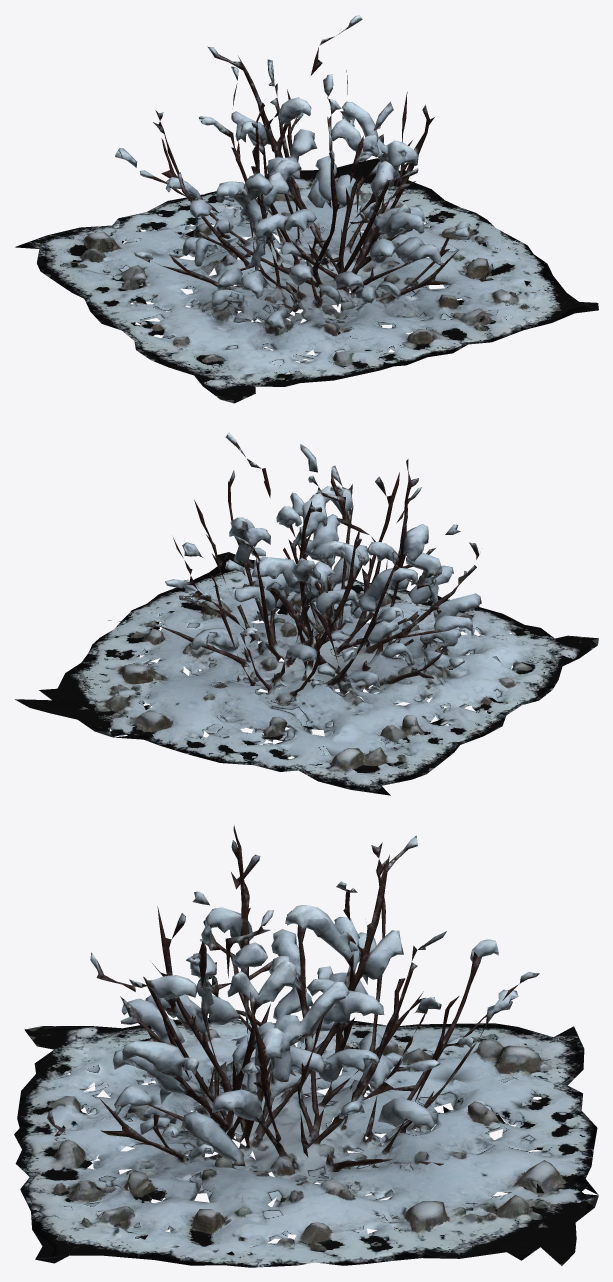
The model's file is snow-bush-1.glb.
3 renders of one model, top to bottom at view 1: azimuth 30°, elevation 25°; view 2: azimuth 150°, elevation 25°; view 3: azimuth 270°, elevation 25°, orthographic. The views are drawn at different scales.
Parts seen in each view (by area): view 1: geometry_0; view 2: geometry_0; view 3: geometry_0.
Boxes of the visible parts, x1,y1,x2,y2 form: geometry_0: (15, 14, 598, 403); geometry_0: (15, 432, 598, 795); geometry_0: (14, 825, 598, 1267).
Bounding box in the file's own units: 0.9706 × 0.5615 × 0.9593.
1 material, 1 textured.
